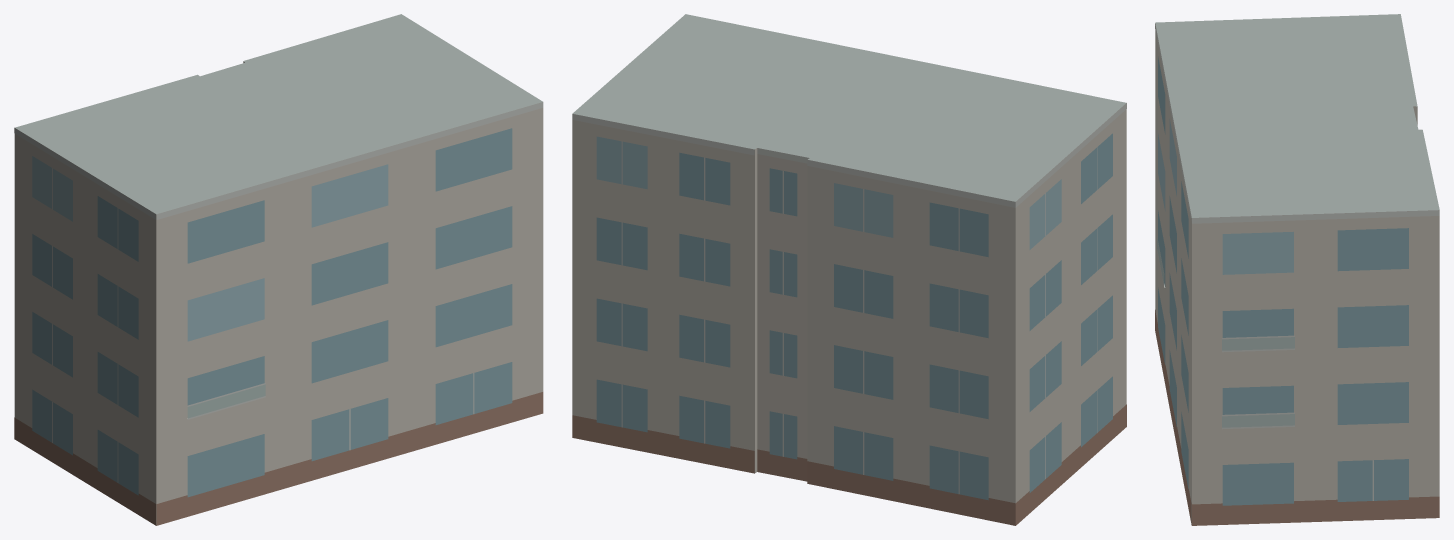
The model's file is survey-upis-32738589.glb.
The picture shows the model from 3 angles, left to right: view 1: azimuth 30°, elevation 25°; view 2: azimuth 150°, elevation 25°; view 3: azimuth 270°, elevation 25°; orthographic projection. The views are drawn at different scales.
Parts seen in each view (by area): view 1: survey-upis-32738589.tmp; view 2: survey-upis-32738589.tmp; view 3: survey-upis-32738589.tmp.
Boxes of the visible parts, box(x1,y1,x2,y2) form: survey-upis-32738589.tmp: box(14, 14, 543, 525); survey-upis-32738589.tmp: box(572, 14, 1126, 525); survey-upis-32738589.tmp: box(1155, 14, 1439, 525).
Bounding box in the file's own units: 18.48 × 13 × 10.9.
